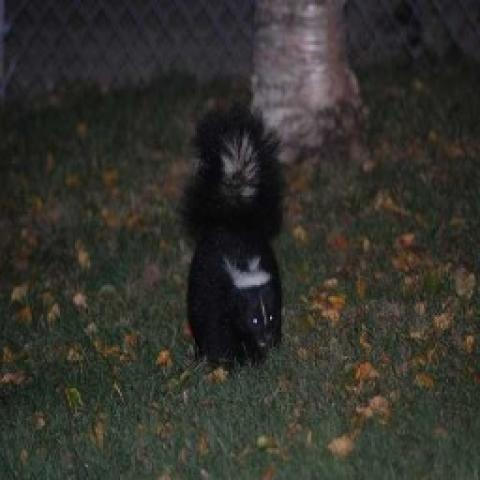small_animal: (178, 100, 289, 372)
